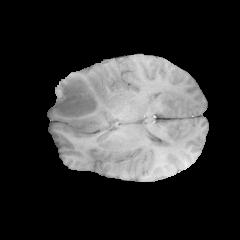glioma: (49, 71, 117, 135)
